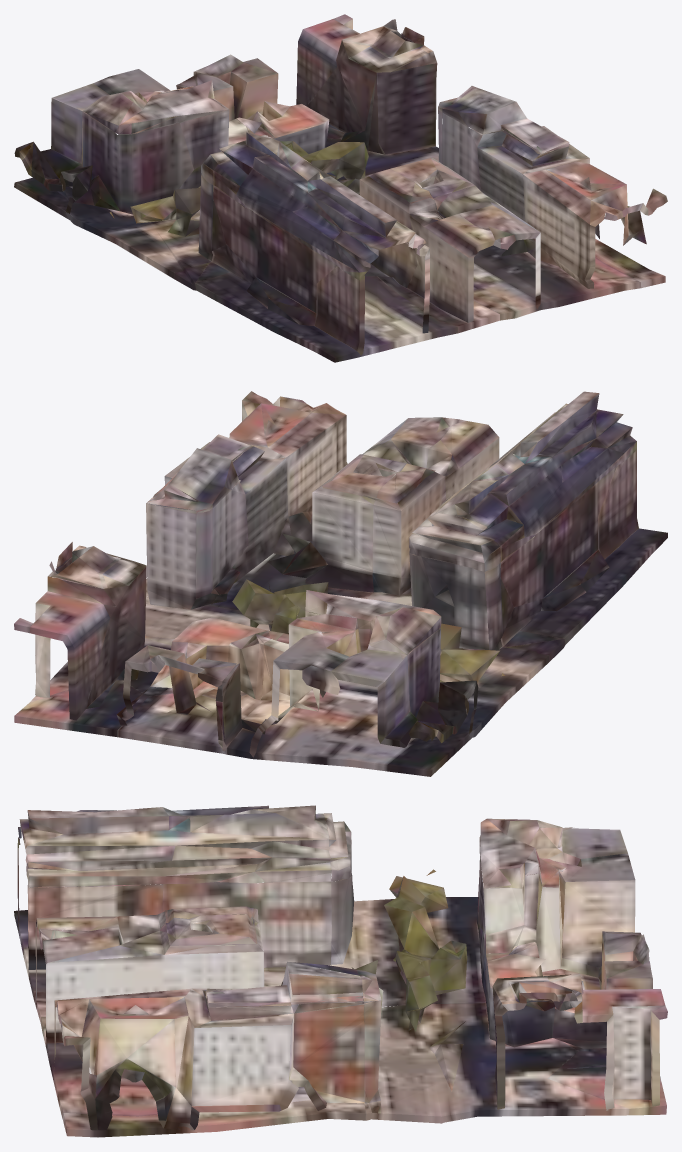
3 renders of one model, top to bottom at view 1: azimuth 30°, elevation 25°; view 2: azimuth 150°, elevation 25°; view 3: azimuth 270°, elevation 25°, orthographic. The views are drawn at different scales.
Visible parts, largest first — view 1: Mesh_0; view 2: Mesh_0; view 3: Mesh_0.
Part boxes in pixels (x1,y1,x2,y2): Mesh_0: (14, 14, 667, 362); Mesh_0: (14, 391, 667, 776); Mesh_0: (14, 805, 667, 1137).
Bounding box in the file's own units: 134 × 47.6 × 165.
Materials: 1 (1 with a texture image).
